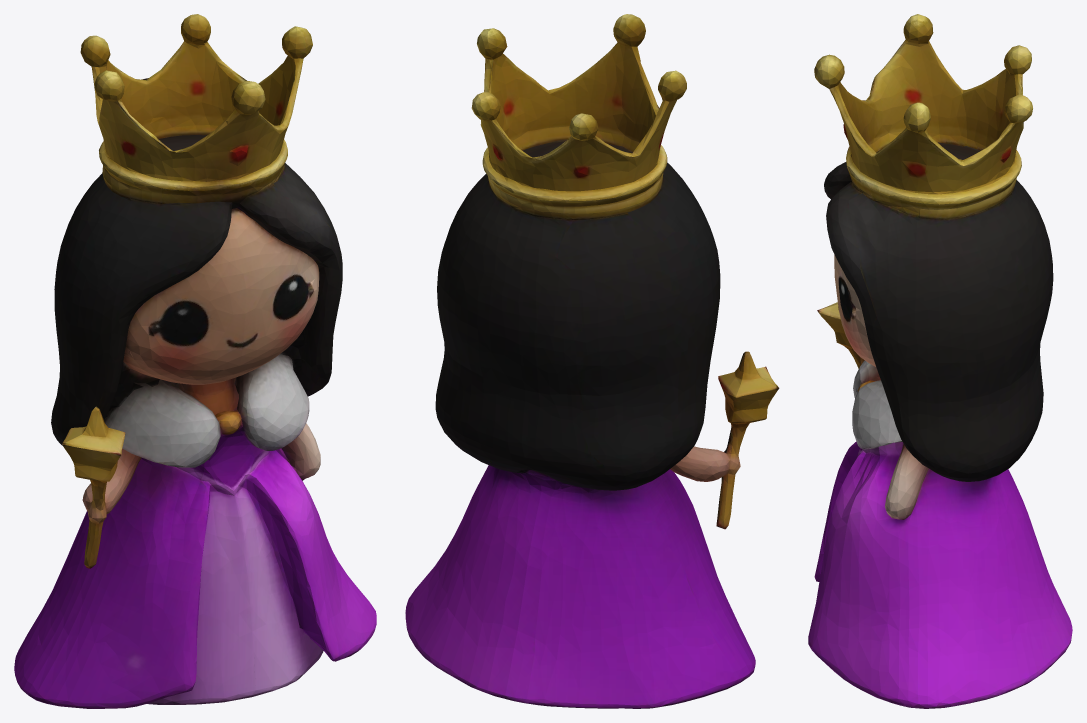
The model's file is queen.glb.
3 renders of one model, left to right at view 1: azimuth 30°, elevation 25°; view 2: azimuth 150°, elevation 25°; view 3: azimuth 270°, elevation 25°, orthographic. The views are drawn at different scales.
Visible parts, largest first — view 1: geometry_0; view 2: geometry_0; view 3: geometry_0.
Boxes of the visible parts, <box> form: geometry_0: <box>14,14,376,708</box>; geometry_0: <box>405,14,779,708</box>; geometry_0: <box>808,14,1072,708</box>.
Bounding box in the file's own units: 0.5879 × 1 × 0.4141.
1 material, 1 textured.
